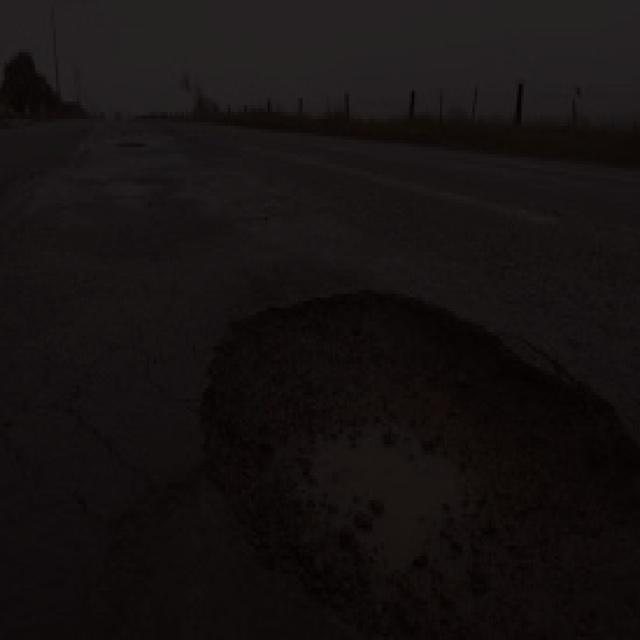Pothole: (174, 280, 640, 640), (115, 136, 149, 155)
